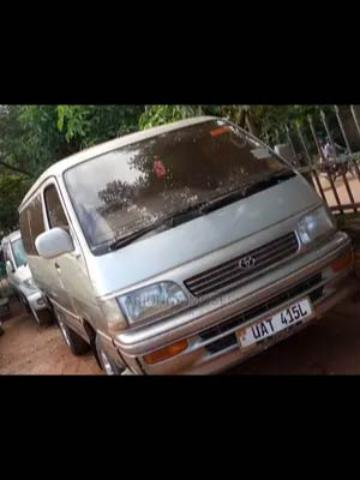van: (18, 115, 353, 373)
